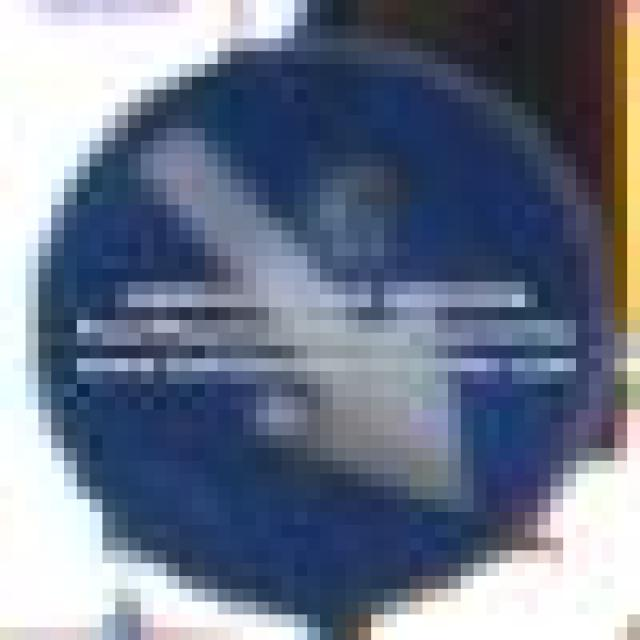COMPULSARY_KEEP_RIGHT: (30, 25, 620, 630)
